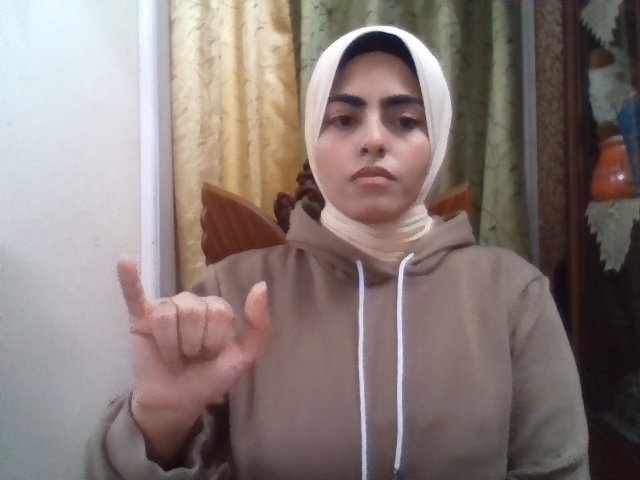Y: (117, 257, 269, 412)
